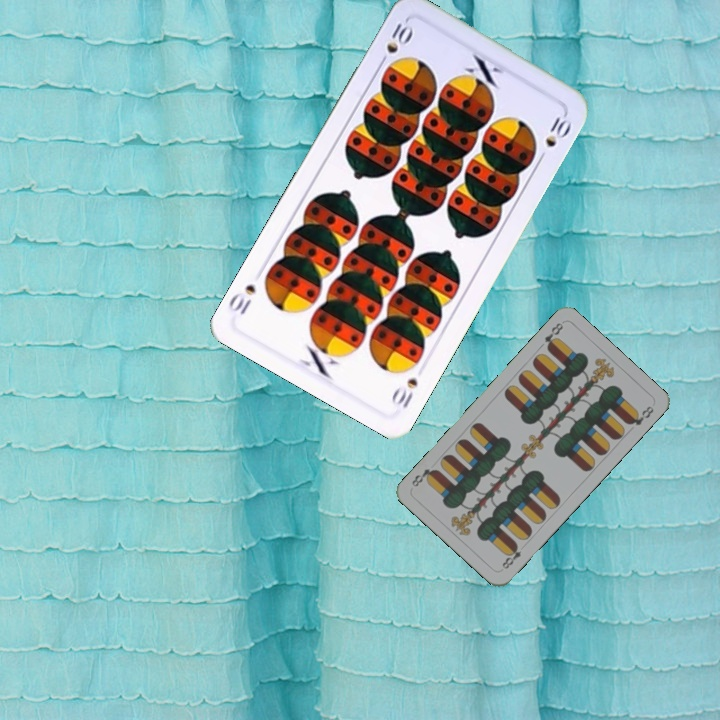E8: (540, 318, 566, 353), (497, 540, 524, 573)
S10: (374, 16, 416, 70), (387, 374, 421, 411)
